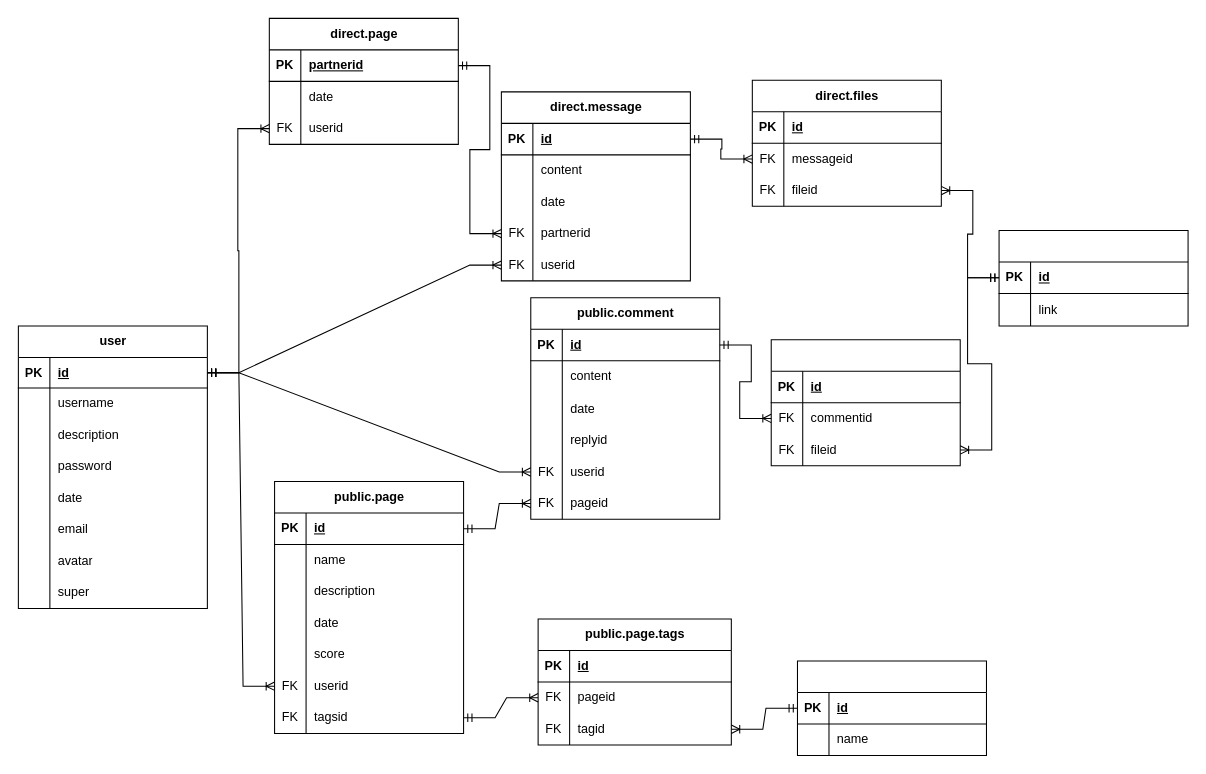
Image size: 1206x774. Some labels were removed from this diagram. Here are the shapes that lost their labels. From the top down, the box of each, then its label:
(998, 229, 1188, 326): filelist
(770, 339, 960, 466): public.files
(796, 660, 986, 755): public.page.taglist
